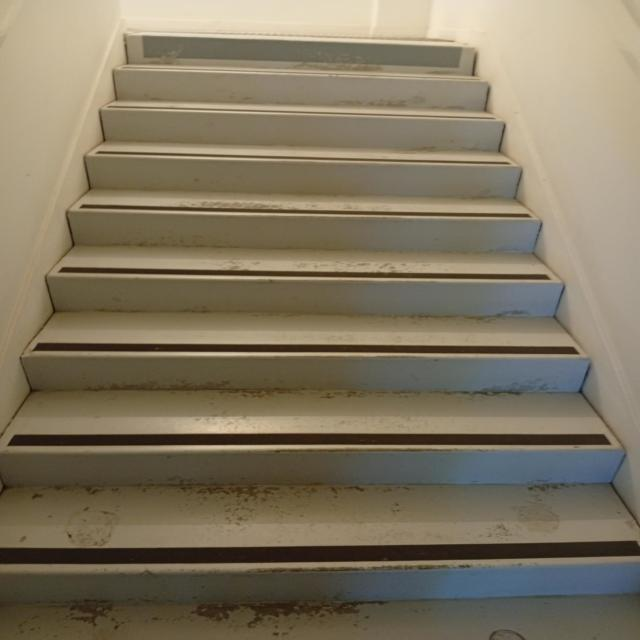Stairs: (0, 136, 636, 622)
